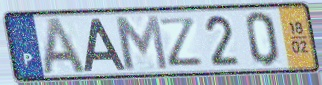0: (244, 10, 283, 70)
2: (203, 14, 243, 69)
A: (41, 15, 89, 77), (82, 17, 128, 73)
M: (111, 14, 171, 72)
Z: (156, 15, 205, 68)
